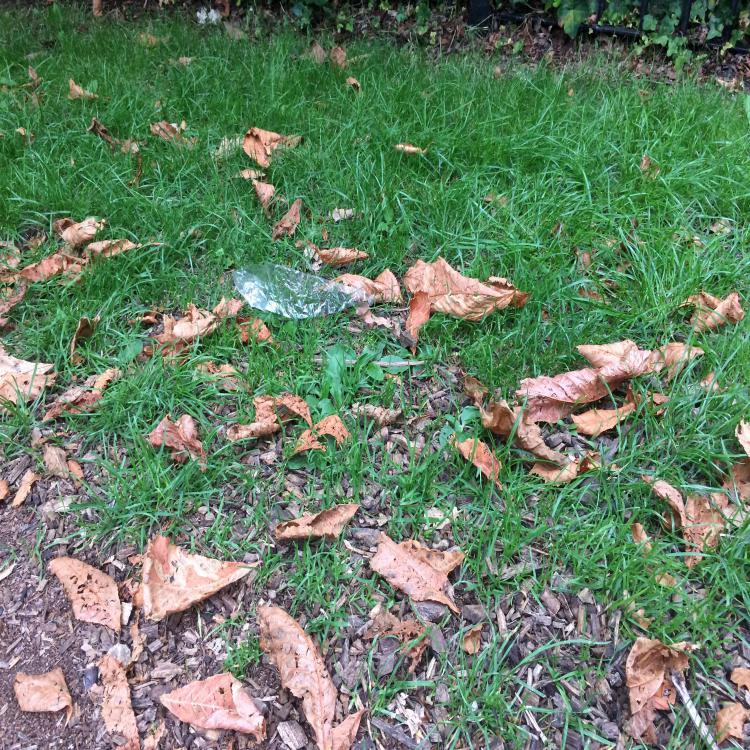Plastic film: (233, 263, 373, 318)
